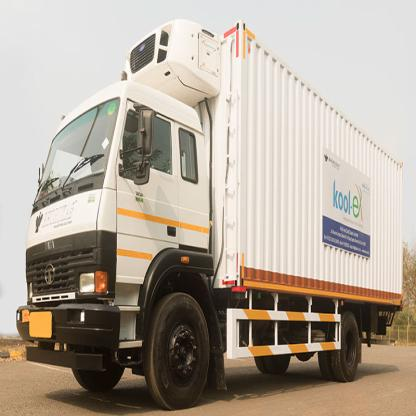truck: (16, 18, 401, 408)
